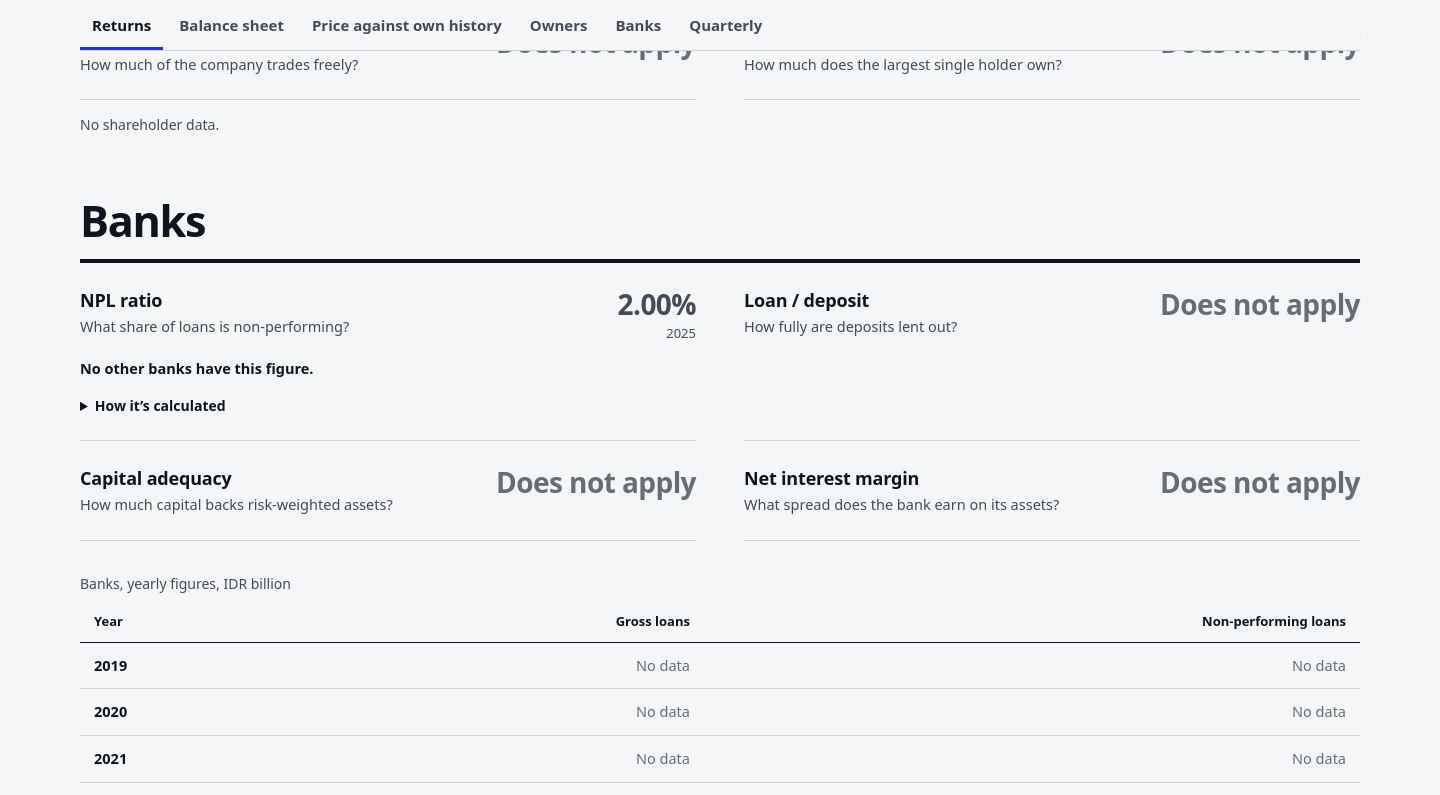
Scenario: Company profile page › renders bank checks and expands every sourced input, including a null value
The width and height of the screenshot is (1440, 795).
(page scrolled)
expect the heading "Banks" is shown: met, box [80,199,1360,264]
expect the text "2.00%" is shown: met, box [618,289,696,320]
Step 1. Click the heading "How it’s calculated" → x=160, y=406, box [95,396,226,416]
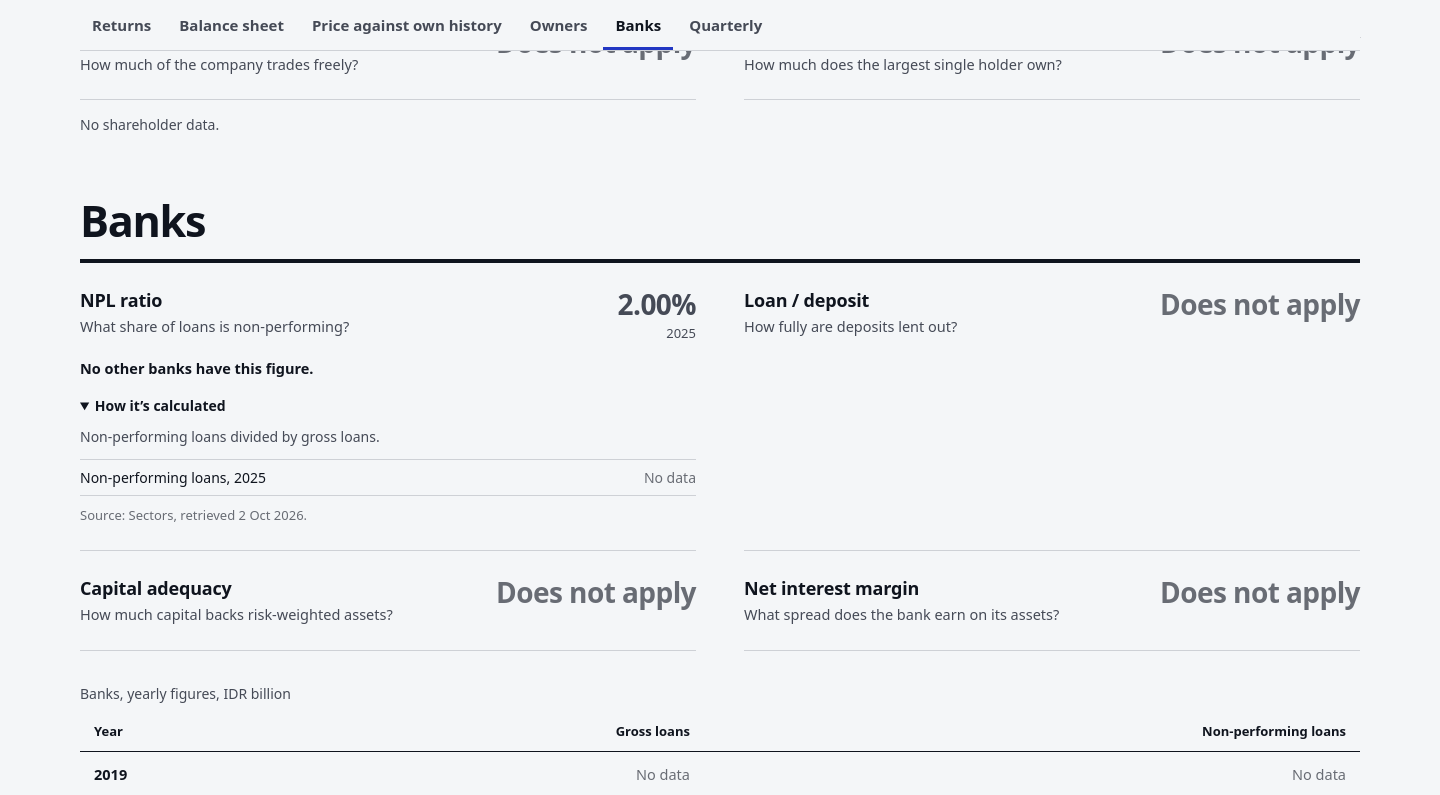
expect the text "Non-performing loans divided by gross loans." is shown: met, box [80,428,380,446]
expect the text "Non-performing loans, 2025" is shown: met, box [80,468,266,488]
expect the text "Source: Sectors, retrieved 2 Oct 2026." is shown: met, box [80,506,307,524]
